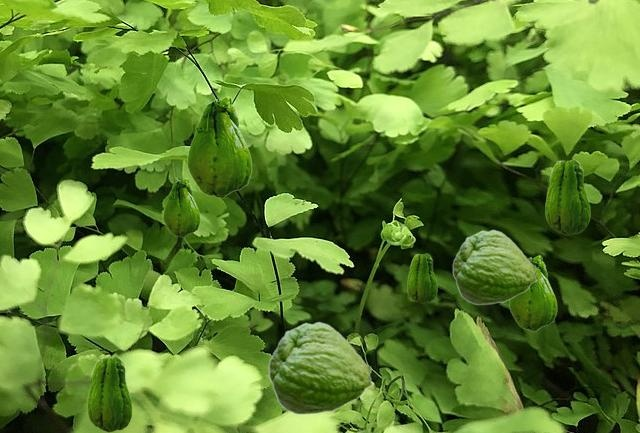sayote: (268, 321, 373, 414), (187, 96, 251, 197), (452, 229, 537, 304), (509, 255, 556, 330), (87, 356, 131, 431), (545, 159, 589, 234), (163, 178, 199, 236), (407, 253, 436, 302)
